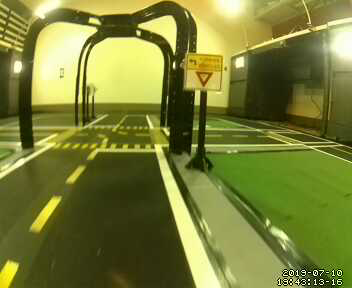Turn Yield: (187, 52, 223, 91)
